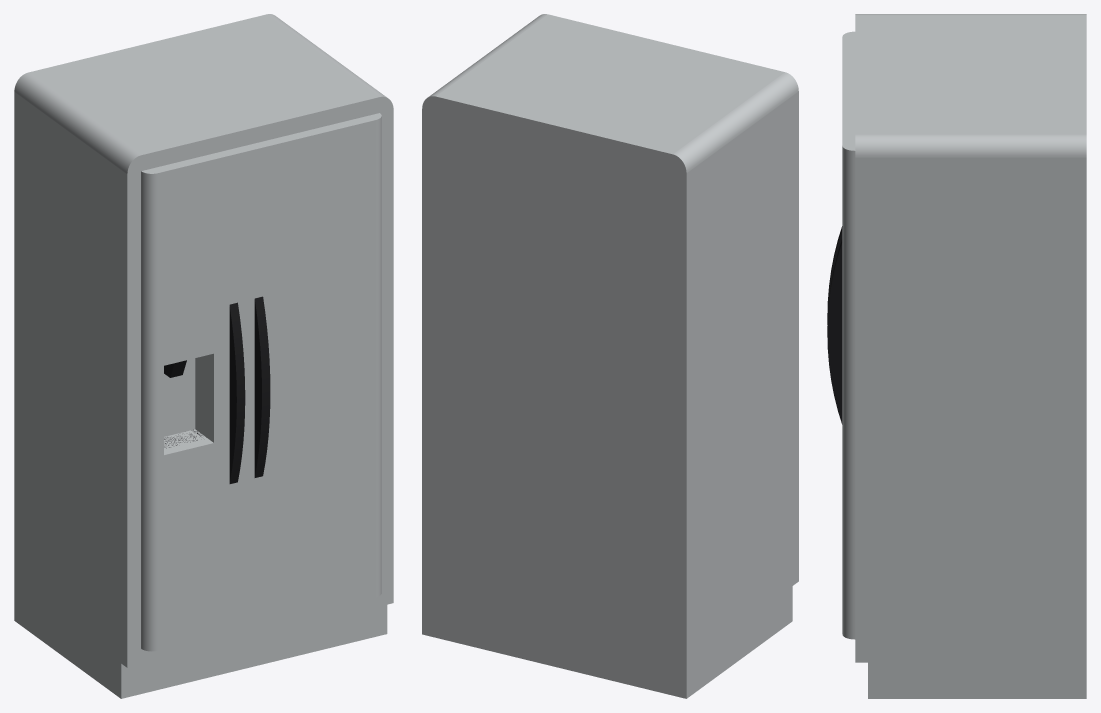
The model's file is pk_fridge_steel.glb.
The picture shows the model from 3 angles, left to right: view 1: azimuth 30°, elevation 25°; view 2: azimuth 150°, elevation 25°; view 3: azimuth 270°, elevation 25°; orthographic projection. The views are drawn at different scales.
Visible parts, largest first — view 1: pk_fridge_steel; view 2: pk_fridge_steel; view 3: pk_fridge_steel.
Boxes of the visible parts, x1,y1,x2,y2 form: pk_fridge_steel: (14, 14, 393, 698); pk_fridge_steel: (422, 14, 798, 698); pk_fridge_steel: (827, 14, 1086, 698).
Bounding box in the file's own units: 0.91 × 1.78 × 0.75.
1 material, 1 textured.
